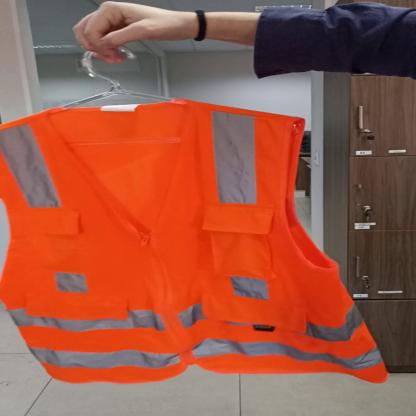colete: (0, 98, 396, 389)
